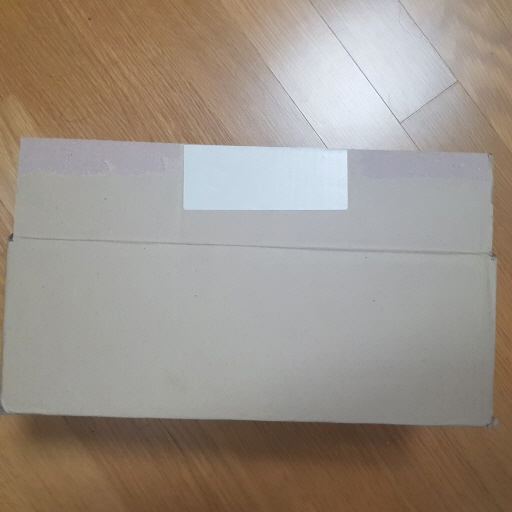Paper_0: (1, 134, 498, 441)
